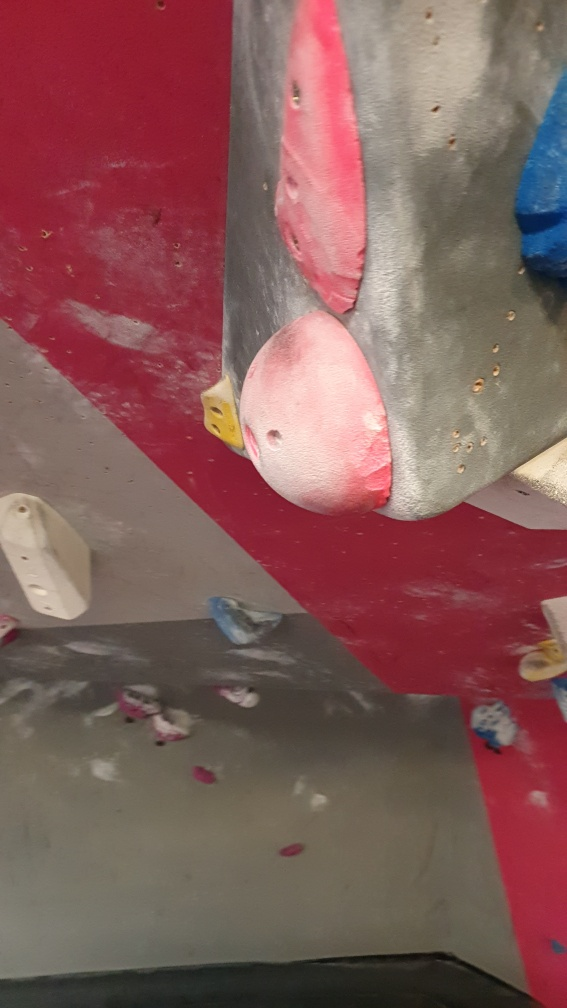Jug: (208, 593, 286, 650)
Pinch: (1, 490, 95, 624)
Sloper: (241, 309, 399, 518)
